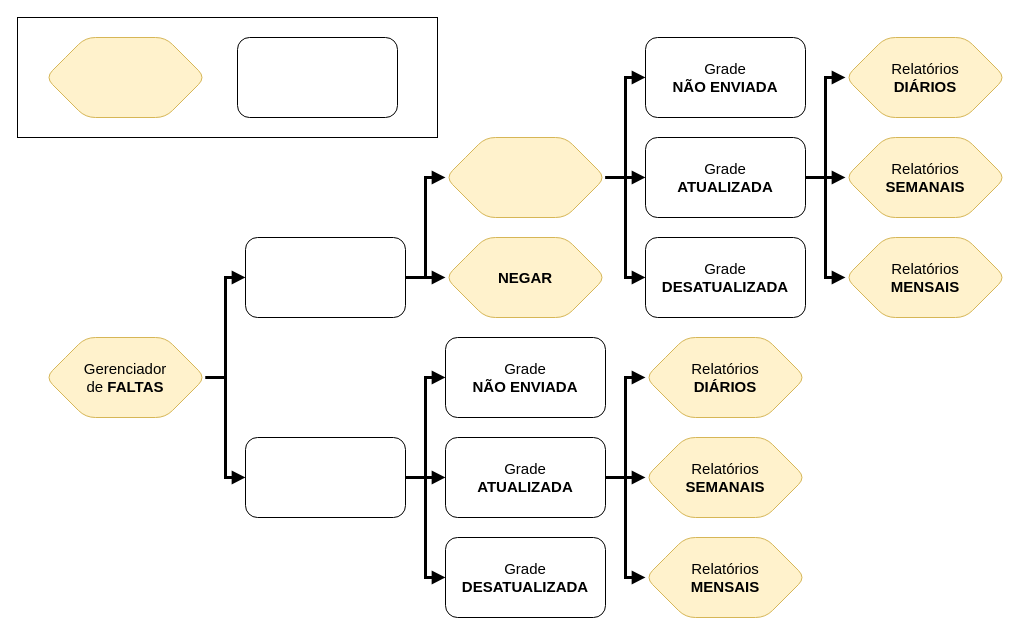
Some shapes in this 1023 by 635 pixel diagram are drawn without their labels. The box of each missing label's shape, as (x1, y1, x2, y2) in pixels:
AFIRMAR: (444, 136, 606, 218)
Bot: (236, 36, 398, 118)
Primeiro USO: (244, 236, 406, 318)
Uso CONFIRMADO: (244, 436, 406, 518)
Usuário: (44, 36, 206, 118)
